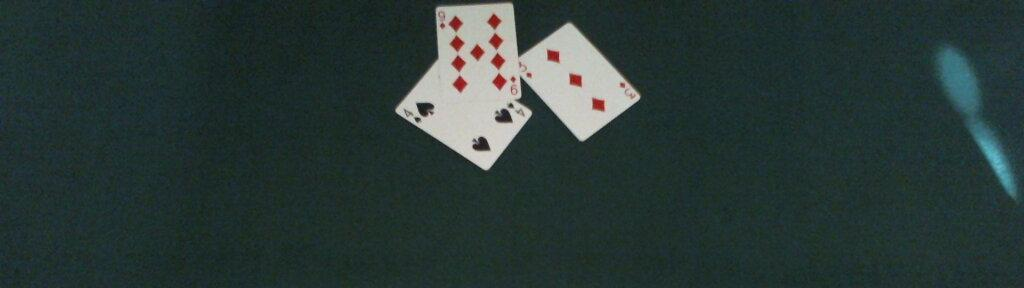four: (393, 58, 533, 172)
nine: (434, 2, 522, 105)
three: (520, 22, 641, 142)
